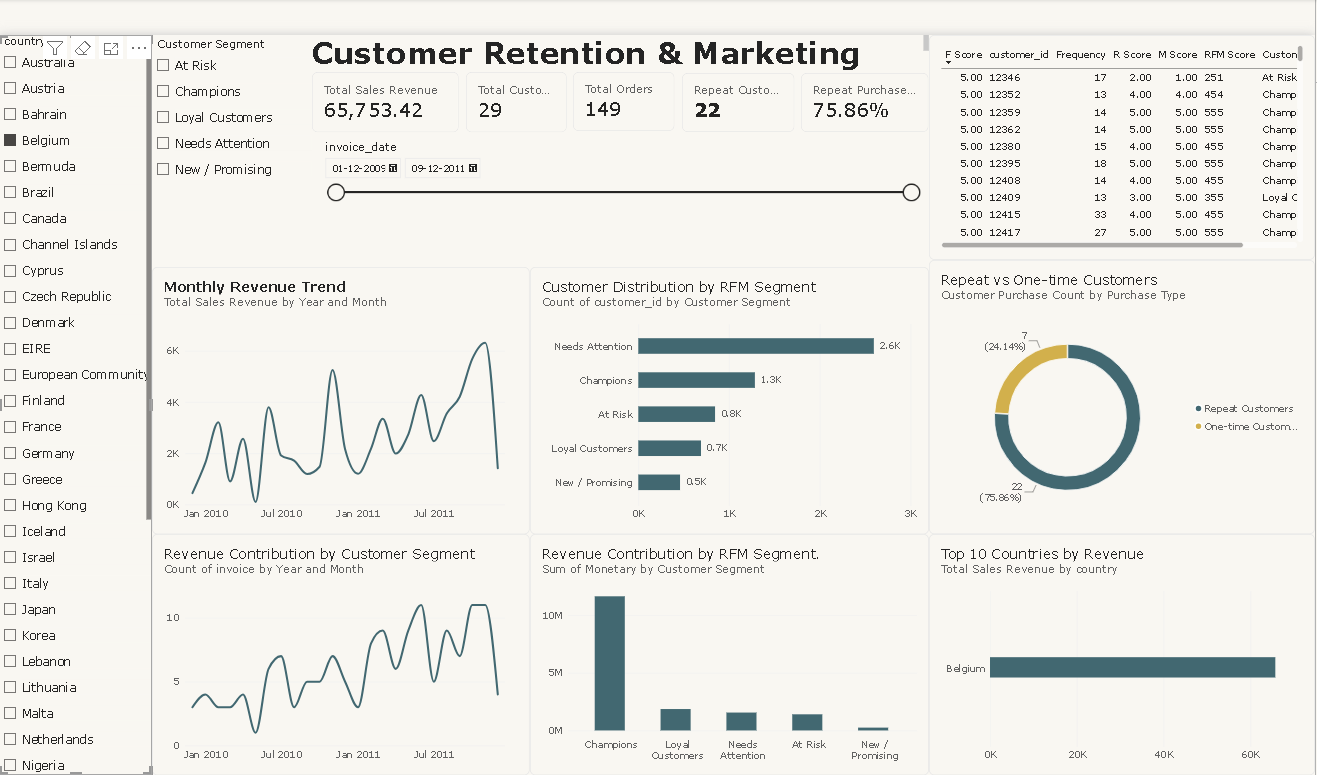

What the dashboard file says about the page in this screenshot:
{"tool":"powerbi","page":{"name":"Page 1","canvas":[1920,1080],"ordinal":0},"visuals":[{"type":"cardVisual","fields":{"Data":["Online_Retail_II_MySQL_Ready.Total Sales Revenue"]},"box":[456.2,54.5,214.5,89],"z":0},{"type":"cardVisual","fields":{"Data":["Online_Retail_II_MySQL_Ready.Total Customers"]},"box":[681,54.5,147.4,89],"z":1000},{"type":"cardVisual","fields":{"Data":["Online_Retail_II_MySQL_Ready.Total Orders"]},"box":[837.9,54.5,148.8,86.1],"z":2000},{"type":"cardVisual","fields":{"Data":["Online_Retail_II_MySQL_Ready.Repeat Customers"]},"box":[996.2,55.9,164.9,86.1],"z":3000},{"type":"cardVisual","fields":{"Data":["Online_Retail_II_MySQL_Ready.Repeat Purchase Rate"]},"box":[1170.4,55.9,186.2,86.5],"z":4000},{"type":"lineChart","title":"Monthly Revenue Trend","fields":{"Category":["Online_Retail_II_MySQL_Ready.invoice_date.Variation.Date Hierarchy.Year","Online_Retail_II_MySQL_Ready.invoice_date.Variation.Date Hierarchy.Month"],"Y":["Online_Retail_II_MySQL_Ready.Total Sales Revenue"]},"box":[223.2,338.5,551.5,389.5],"z":5000},{"type":"clusteredBarChart","title":"Top 10 Countries by Revenue","fields":{"Category":["Online_Retail_II_MySQL_Ready.country"],"Y":["Online_Retail_II_MySQL_Ready.Total Sales Revenue"]},"box":[1356.8,728,563.2,351.6],"z":6000},{"type":"tableEx","fields":{"Values":["RFM Analysis.F Score","RFM Analysis.customer_id","RFM Analysis.Frequency","RFM Analysis.R Score","RFM Analysis.M Score","RFM Analysis.RFM Score","RFM Analysis.Customer Segment"]},"box":[1356.8,0,563.2,328.3],"z":7000},{"type":"clusteredBarChart","title":"Customer Distribution by RFM Segment","fields":{"Category":["RFM Analysis.Customer Segment"],"Y":["CountNonNull(RFM Analysis.customer_id)"]},"box":[774.7,338.5,582.1,389.5],"z":8000},{"type":"donutChart","title":"Repeat vs One-time Customers","fields":{"Category":["Customer Purchase Type.Purchase Type"],"Y":["Online_Retail_II_MySQL_Ready.Customer Purchase Count"]},"box":[1356.8,328.3,563.2,399.8],"z":9000},{"type":"lineChart","title":"Revenue Contribution by Customer Segment","fields":{"Category":["Online_Retail_II_MySQL_Ready.invoice_date.Variation.Date Hierarchy.Year","Online_Retail_II_MySQL_Ready.invoice_date.Variation.Date Hierarchy.Month"],"Y":["Count(Online_Retail_II_MySQL_Ready.invoice)"]},"box":[223.2,728,551.5,351.6],"z":10000},{"type":"clusteredColumnChart","title":"Revenue Contribution by RFM Segment.","fields":{"Category":["RFM Analysis.Customer Segment"],"Y":["Sum(RFM Analysis.Monetary)"]},"box":[774.7,728,582.1,351.6],"z":11000},{"type":"slicer","fields":{"Values":["Online_Retail_II_MySQL_Ready.country"]},"box":[0,0,223.2,1079.6],"z":12000},{"type":"slicer","fields":{"Values":["Online_Retail_II_MySQL_Ready.invoice_date"]},"box":[468.2,154.3,879.2,174.2],"z":13000},{"type":"slicer","fields":{"Values":["RFM Analysis.Customer Segment"]},"box":[223.4,4,232.8,324.5],"z":14000},{"type":"textbox","box":[456.2,0,900.4,55.9],"z":15000}]}

Visuals, with their boxes on the page's 1920x1080 design canvas (x1, y1, x2, y2). These are canvas units, not pixel positions in the 1317x775 screenshot, which may show the page scaled, cropped or inside an application window:
cardVisual - Online_Retail_II_MySQL_Ready.Total Sales Revenue: <box>456,54,671,144</box>
cardVisual - Online_Retail_II_MySQL_Ready.Total Customers: <box>681,54,828,144</box>
cardVisual - Online_Retail_II_MySQL_Ready.Total Orders: <box>838,54,987,141</box>
cardVisual - Online_Retail_II_MySQL_Ready.Repeat Customers: <box>996,56,1161,142</box>
cardVisual - Online_Retail_II_MySQL_Ready.Repeat Purchase Rate: <box>1170,56,1357,142</box>
"Monthly Revenue Trend" lineChart: <box>223,338,775,728</box>
"Top 10 Countries by Revenue" clusteredBarChart: <box>1357,728,1920,1080</box>
tableEx - RFM Analysis.F Score x RFM Analysis.customer_id: <box>1357,0,1920,328</box>
"Customer Distribution by RFM Segment" clusteredBarChart: <box>775,338,1357,728</box>
"Repeat vs One-time Customers" donutChart: <box>1357,328,1920,728</box>
"Revenue Contribution by Customer Segment" lineChart: <box>223,728,775,1080</box>
"Revenue Contribution by RFM Segment." clusteredColumnChart: <box>775,728,1357,1080</box>
slicer - Online_Retail_II_MySQL_Ready.country: <box>0,0,223,1080</box>
slicer - Online_Retail_II_MySQL_Ready.invoice_date: <box>468,154,1347,328</box>
slicer - RFM Analysis.Customer Segment: <box>223,4,456,328</box>
textbox: <box>456,0,1357,56</box>
